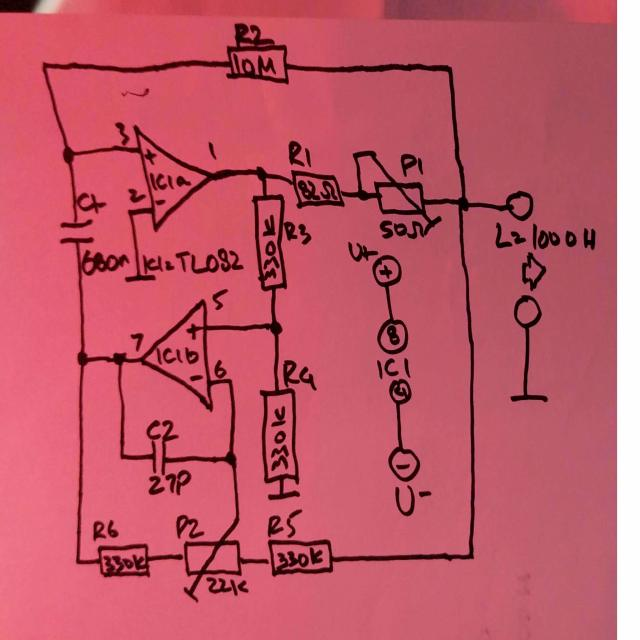capacitor: (58, 217, 96, 244), (149, 435, 167, 475)
ground: (508, 388, 550, 406), (123, 270, 157, 288), (267, 486, 301, 504)
junction: (354, 186, 370, 206), (60, 145, 76, 164), (254, 164, 270, 183), (111, 349, 128, 366), (76, 349, 90, 368), (268, 317, 282, 336), (223, 449, 237, 466), (456, 194, 469, 211), (442, 62, 455, 78), (72, 554, 83, 570), (232, 512, 243, 528), (465, 548, 476, 564), (225, 374, 236, 388), (39, 59, 50, 73), (125, 205, 136, 218), (117, 449, 127, 463), (351, 150, 361, 163), (368, 146, 378, 159)
resistor: (258, 384, 300, 486), (181, 538, 245, 602), (372, 179, 442, 237), (250, 191, 288, 292), (224, 43, 290, 86), (266, 537, 334, 577), (289, 168, 347, 211), (97, 541, 151, 578)
terminal: (386, 443, 422, 483), (376, 316, 409, 356), (512, 292, 542, 332), (371, 253, 404, 287), (503, 189, 534, 222), (388, 376, 413, 406)
text: (493, 220, 597, 253), (141, 248, 244, 275), (80, 246, 130, 275), (269, 404, 290, 471), (394, 481, 432, 516), (261, 212, 280, 280), (233, 20, 275, 50), (146, 468, 192, 495), (281, 358, 317, 392), (276, 546, 324, 570), (296, 177, 338, 204), (232, 51, 277, 76), (378, 218, 426, 241), (267, 508, 303, 537), (102, 551, 147, 573), (204, 575, 248, 597), (154, 345, 200, 365), (148, 171, 191, 192), (375, 356, 412, 380), (145, 418, 180, 442), (175, 513, 205, 539), (346, 240, 378, 264), (283, 220, 312, 246), (76, 191, 108, 214), (287, 139, 312, 168), (399, 152, 424, 178), (92, 518, 119, 542), (114, 119, 130, 147), (212, 287, 228, 311), (385, 324, 401, 346), (213, 358, 228, 381), (126, 186, 146, 203), (129, 331, 144, 351), (393, 382, 409, 400), (206, 138, 218, 161)
